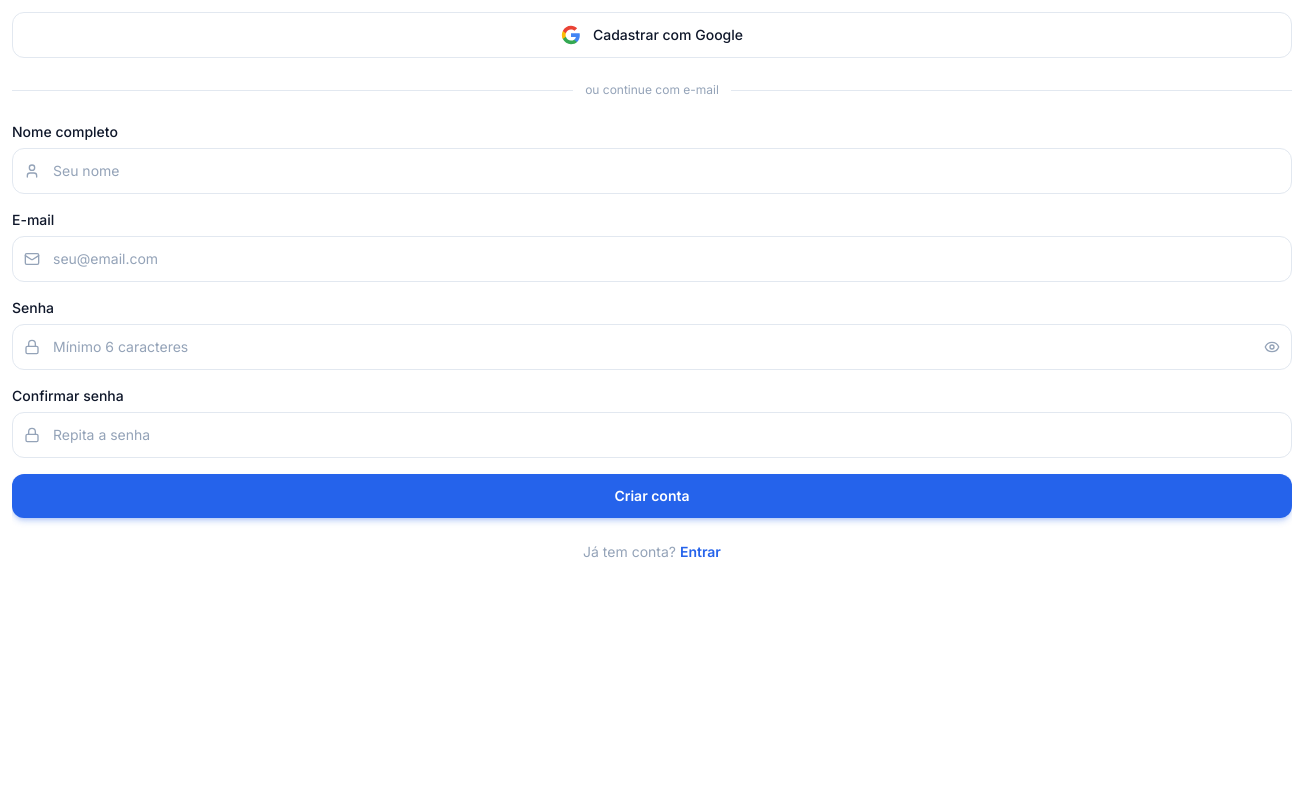
Scenario: RegisterForm › shows validation error when passwords do not match
Type "João Silva" into the field labelled "Nome completo". click: (652, 171)
box: top-left (12, 148), bottom-right (1292, 194)
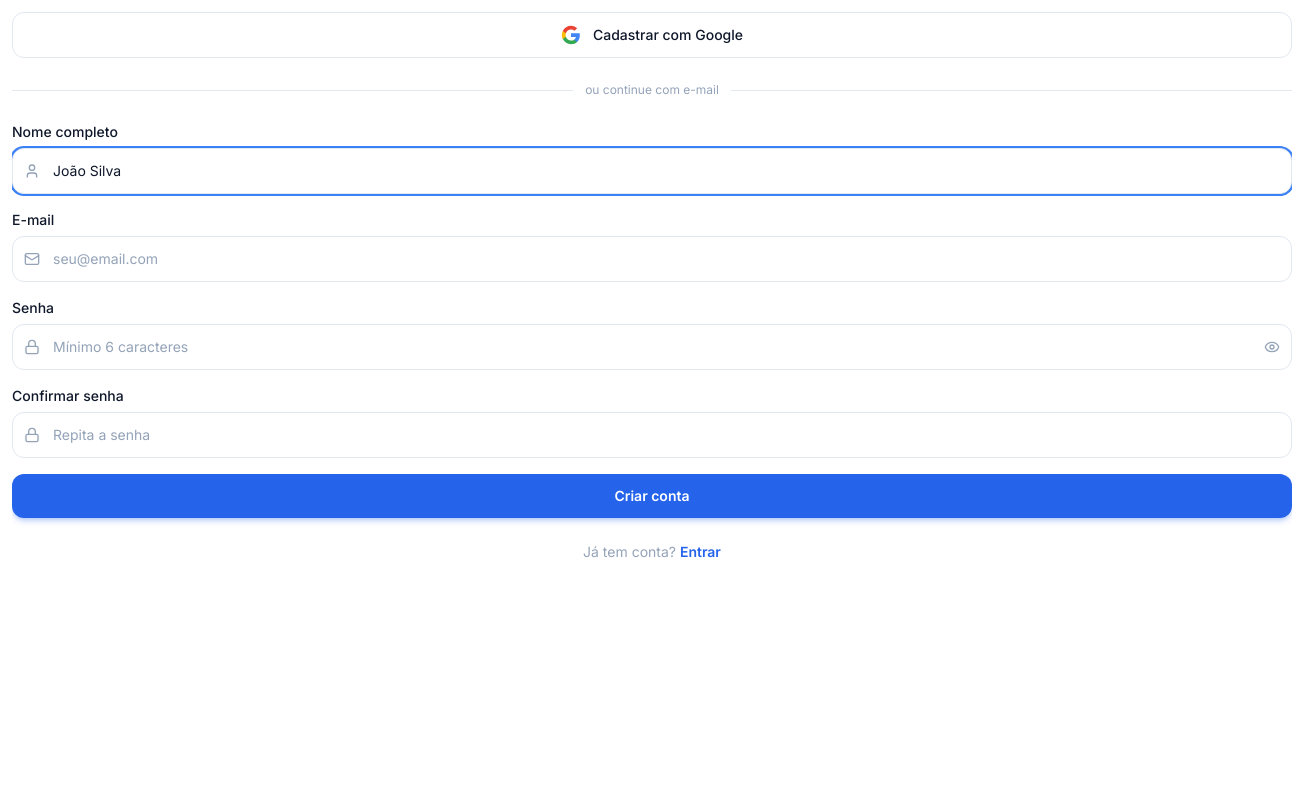
Type "joao@example.com" into the field labelled "E-mail". click: (652, 259)
box: top-left (12, 236), bottom-right (1292, 282)
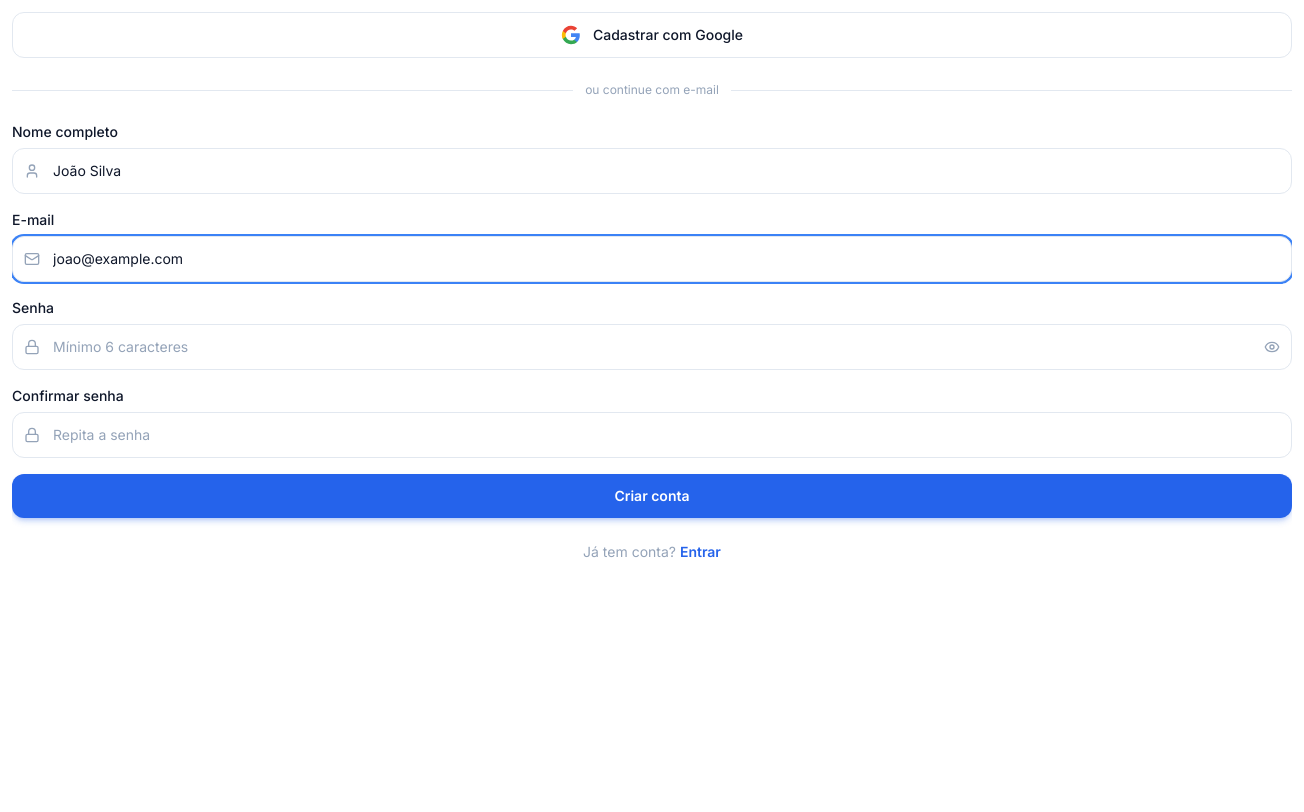
Type "Senh@123" into the password field labelled "Senha". click: (652, 347)
box: top-left (12, 324), bottom-right (1292, 370)
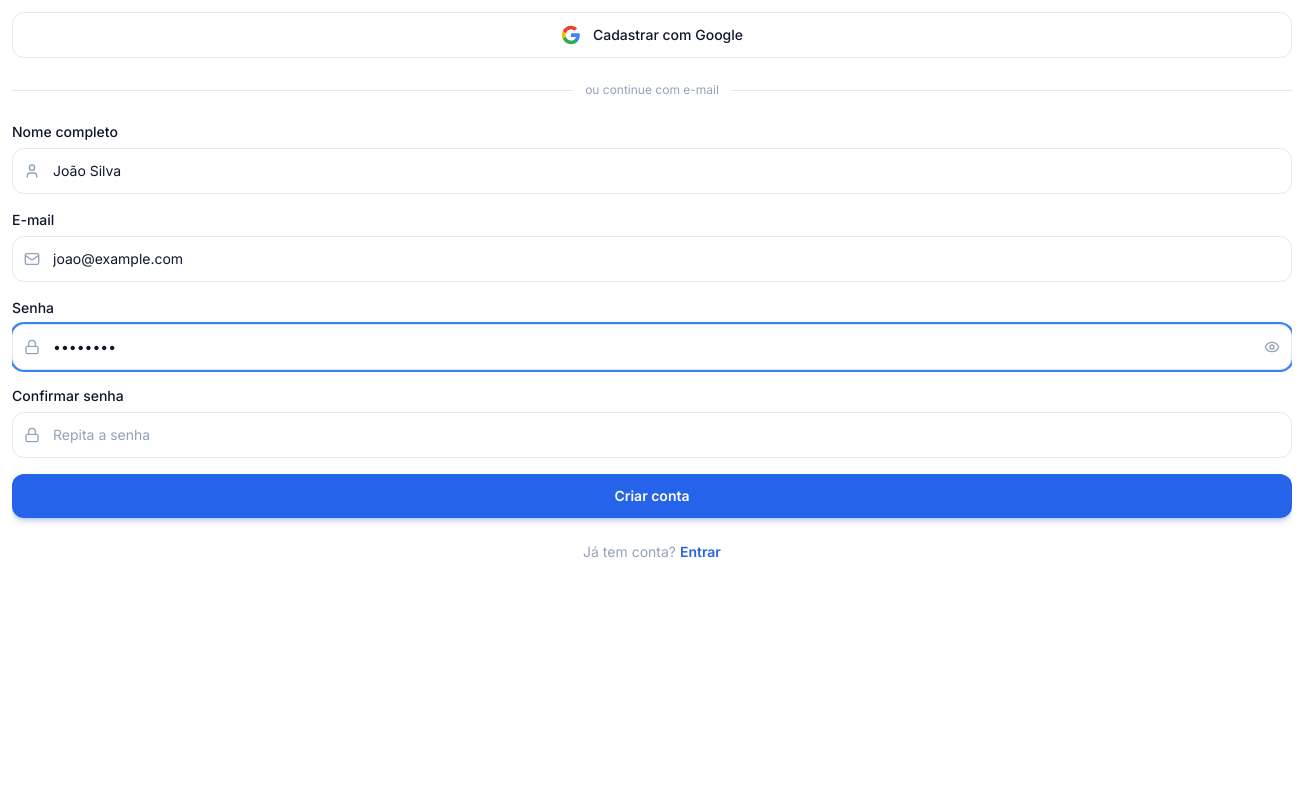
Type "OutraSenha" into the password field labelled "Confirmar senha". click: (652, 435)
box: top-left (12, 412), bottom-right (1292, 458)
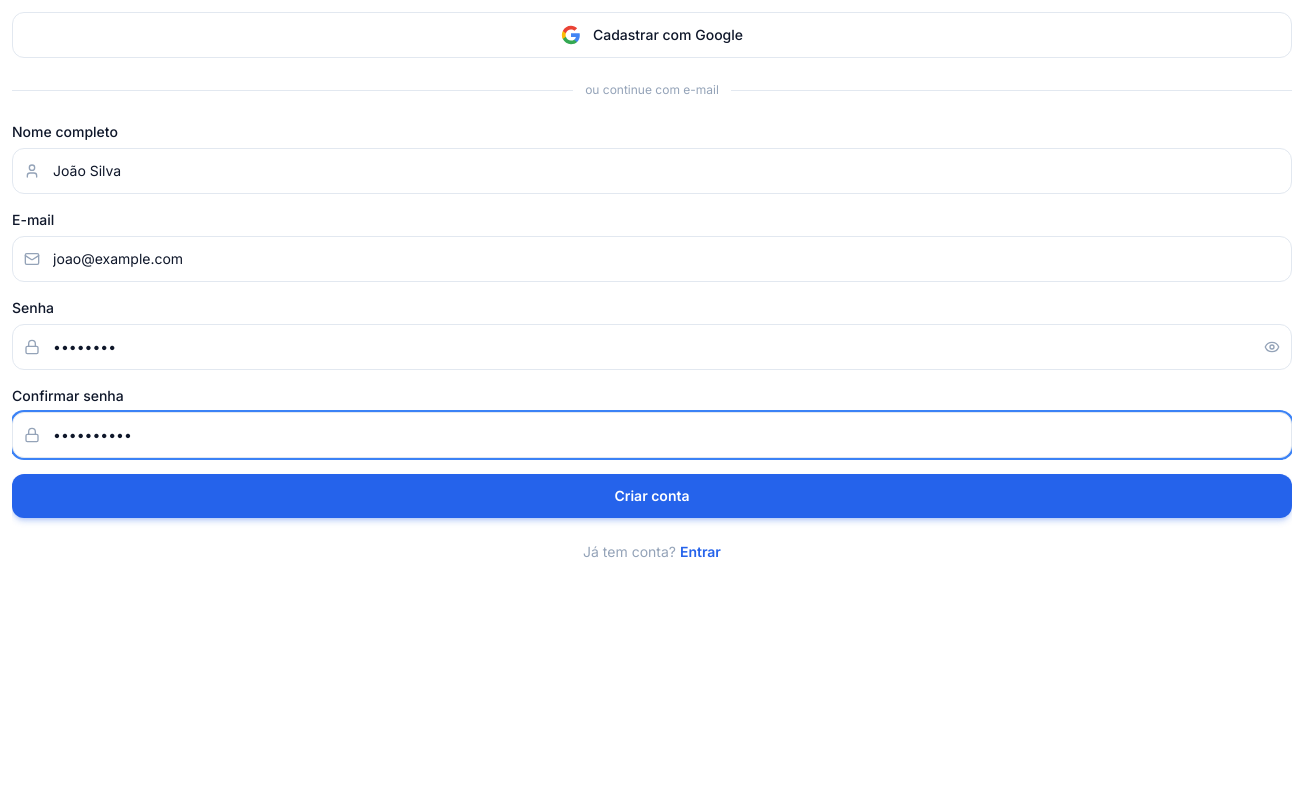
Click the button "Criar conta". click: (652, 496)
box: top-left (12, 474), bottom-right (1292, 518)
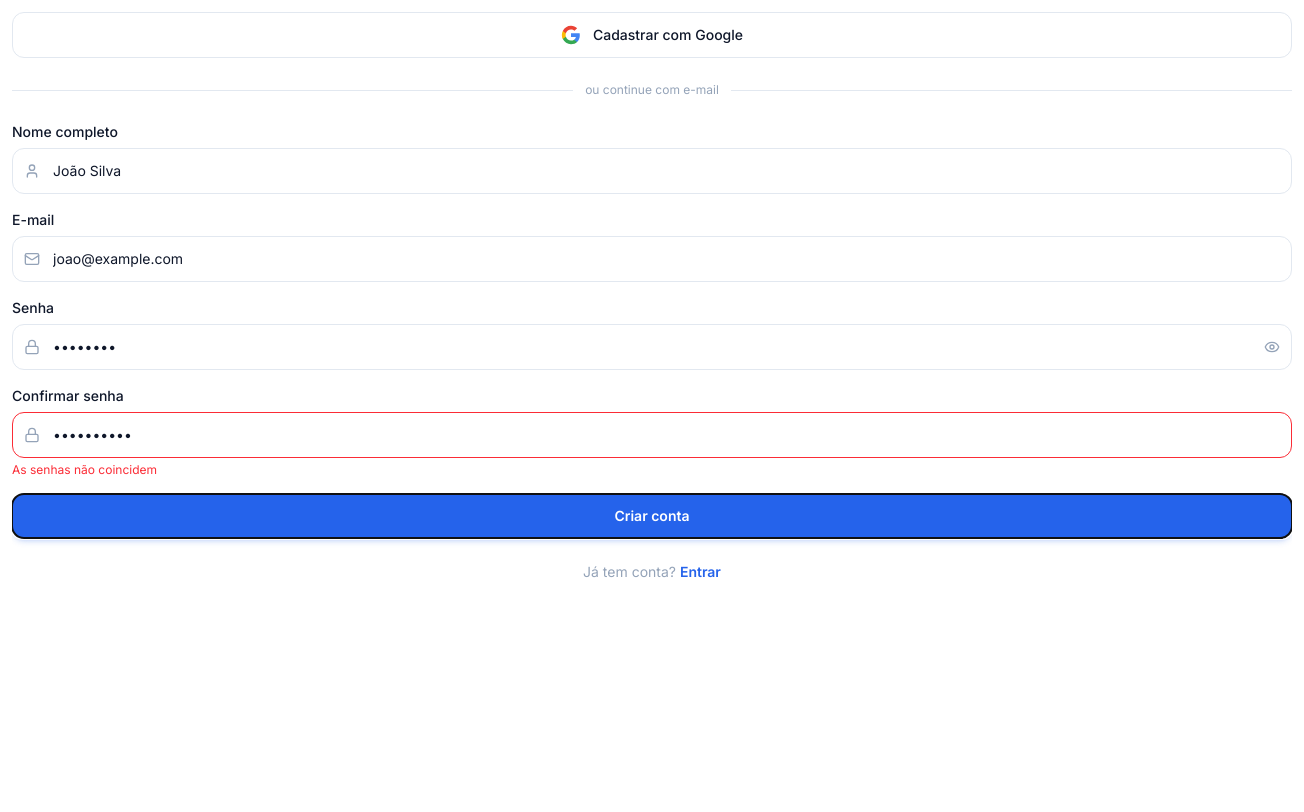
Check: the text "As senhas não coincidem" is shown, box top-left (12, 462), bottom-right (157, 477)
